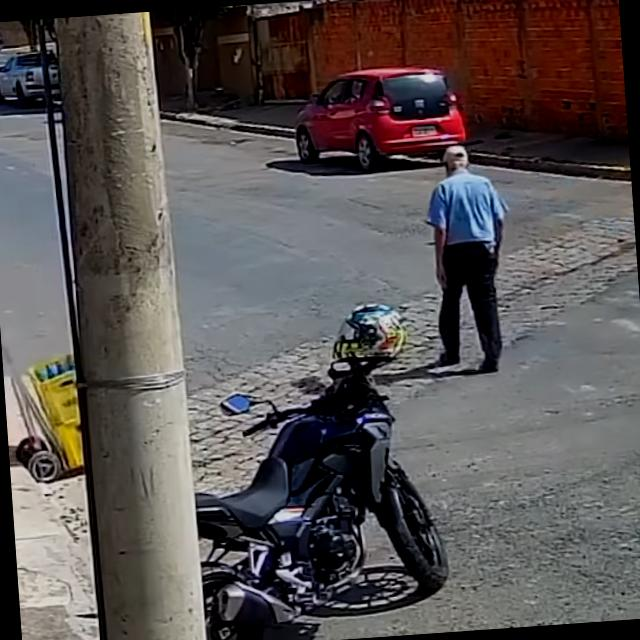person: (418, 144, 516, 376)
